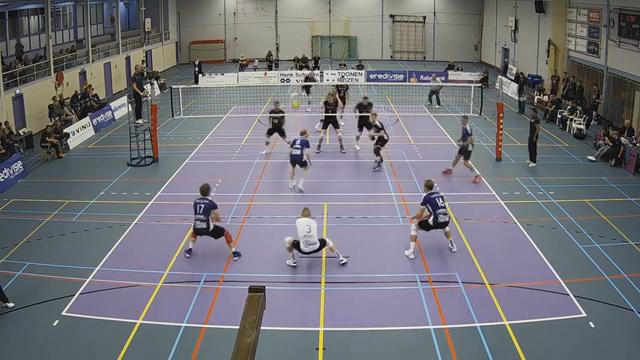Player: (185, 183, 240, 260), (405, 180, 456, 258), (442, 115, 480, 182), (316, 93, 345, 152), (262, 101, 289, 153), (289, 129, 310, 191), (370, 112, 388, 170), (354, 96, 372, 149), (302, 71, 316, 111), (335, 83, 348, 119), (339, 102, 344, 125)
Receive: (280, 204, 354, 275)
ball: (290, 98, 300, 110)
